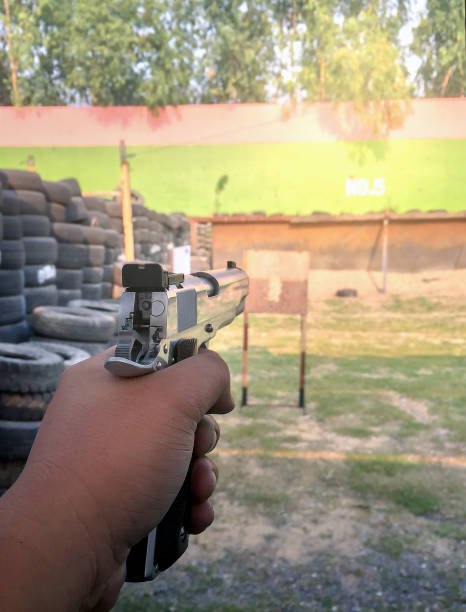gun: (105, 259, 252, 585)
